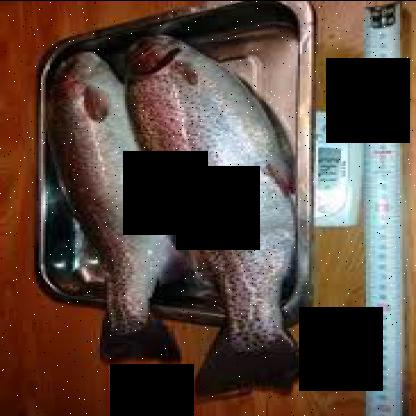fish: (122, 36, 308, 398), (48, 54, 186, 368)
